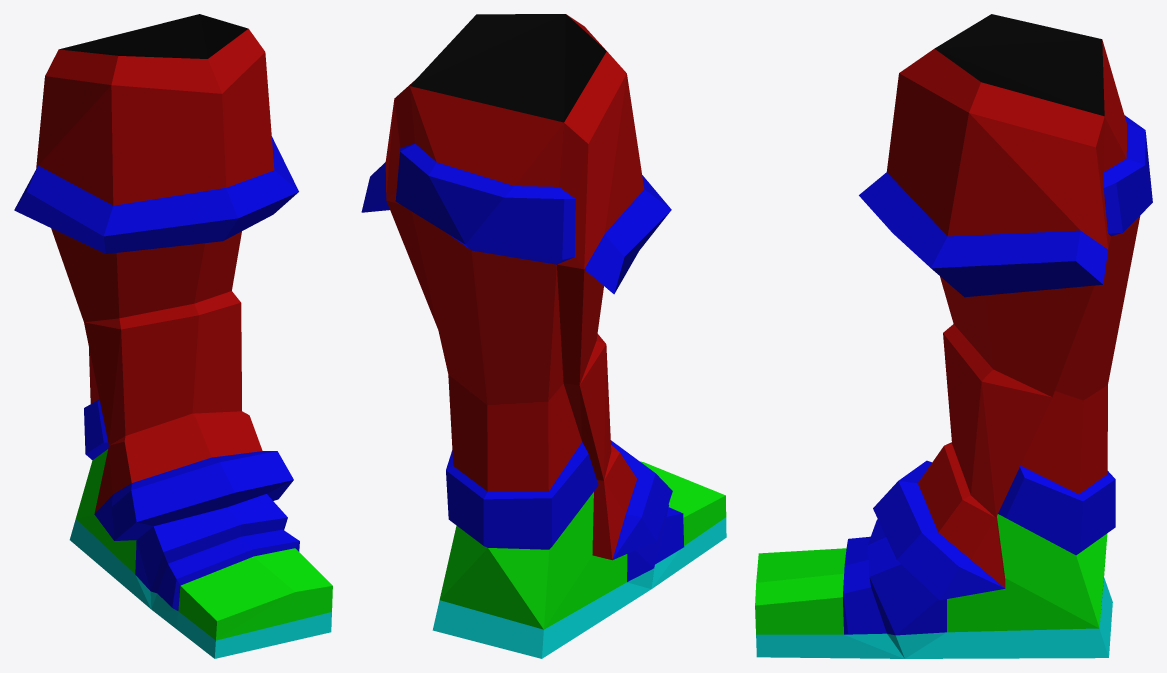
Rendered from Chr_LegLeft_Male_Static_06.fbx.
The picture shows the model from 3 angles, left to right: view 1: azimuth 30°, elevation 25°; view 2: azimuth 150°, elevation 25°; view 3: azimuth 270°, elevation 25°; orthographic projection. The views are drawn at different scales.
Parts seen in each view (by area): view 1: Chr_LegLeft_Male_06; view 2: Chr_LegLeft_Male_06; view 3: Chr_LegLeft_Male_06.
Boxes of the visible parts, <box> form: Chr_LegLeft_Male_06: <box>14,14,332,658</box>; Chr_LegLeft_Male_06: <box>361,14,726,658</box>; Chr_LegLeft_Male_06: <box>755,14,1152,658</box>.
Size of the model in its own units: 19.14 by 40.48 by 24.96.
